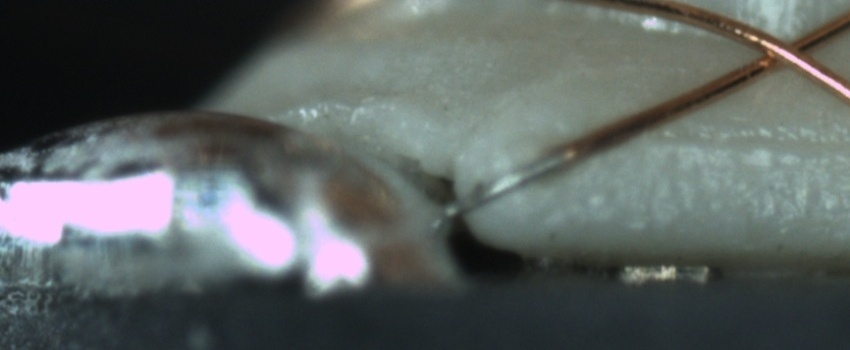CL: (736, 21, 830, 80)
DL: (656, 110, 849, 171)
TS: (443, 154, 565, 218)
TTCW: (447, 123, 627, 220)
